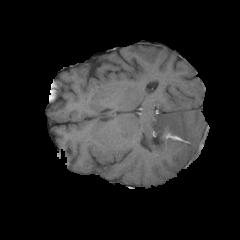glioma: (138, 108, 209, 165)
